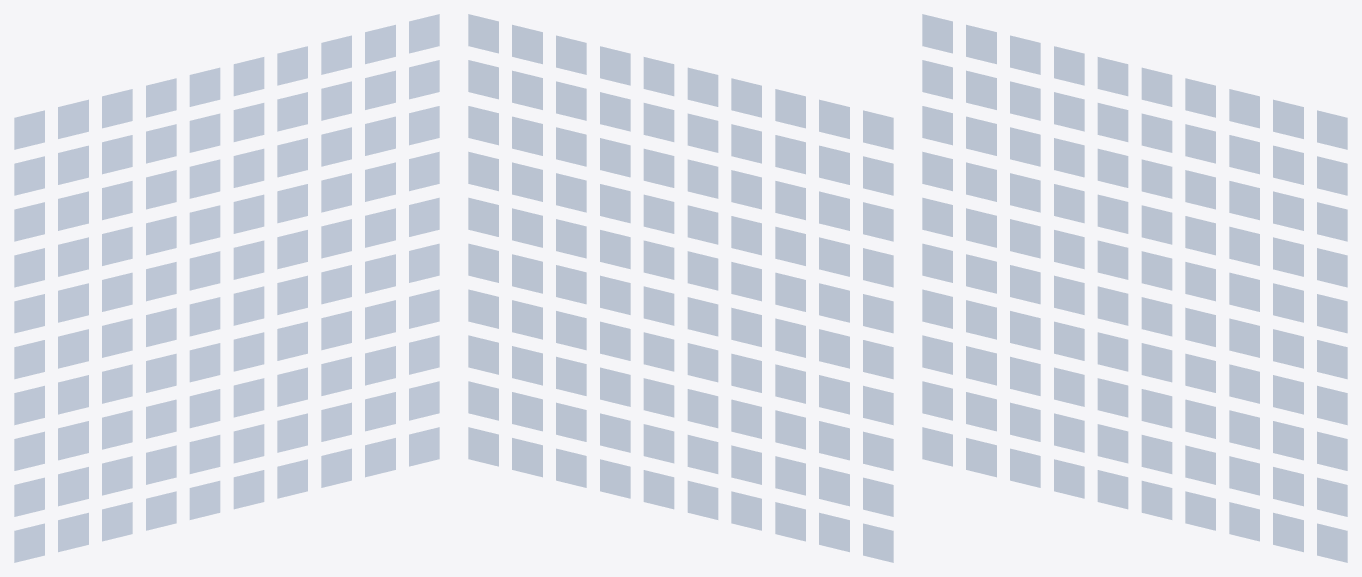
3 renders of one model, left to right at view 1: azimuth 30°, elevation 25°; view 2: azimuth 150°, elevation 25°; view 3: azimuth 330°, elevation 25°, orthographic.
Visible parts, largest first — view 1: 08 Grid Tile; view 2: 08 Grid Tile; view 3: 08 Grid Tile.
Boxes of the visible parts, <box> form: 08 Grid Tile: <box>14,14,439,562</box>; 08 Grid Tile: <box>468,14,893,562</box>; 08 Grid Tile: <box>922,14,1347,562</box>.
Size of what is drawn, in the model's own units: 0.582 by 0.582 by 0.
